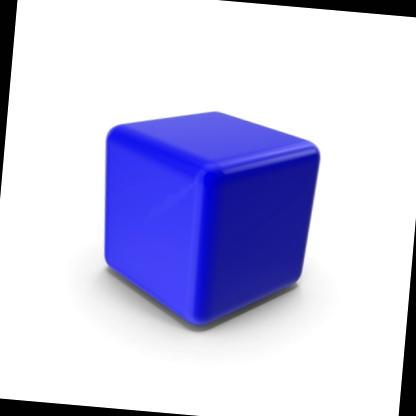blue_block: (67, 63, 364, 362)
